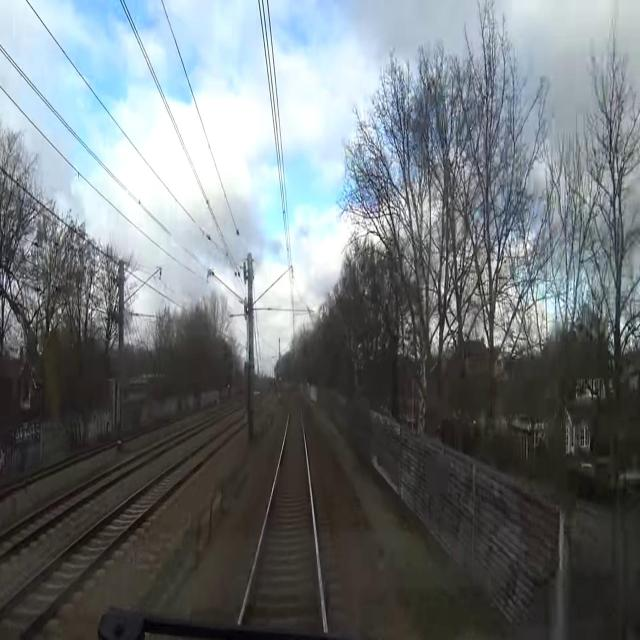rail-track: (0, 423, 238, 639), (243, 409, 322, 629)
